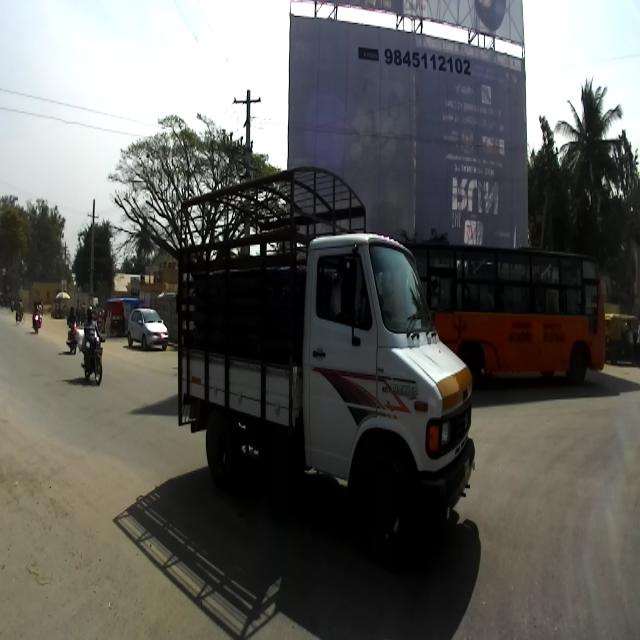truck ahead at: (176, 182, 480, 542)
